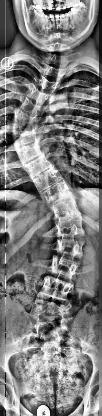Vertebrae: (33, 278, 81, 300), (17, 156, 61, 178), (44, 198, 90, 219), (40, 258, 88, 276), (45, 238, 93, 256), (26, 168, 68, 188), (50, 216, 90, 235), (36, 184, 74, 200), (12, 144, 48, 160), (8, 110, 44, 126), (22, 89, 56, 104), (9, 131, 42, 145), (9, 123, 42, 137), (18, 101, 46, 117), (32, 78, 58, 92), (39, 66, 69, 76)
